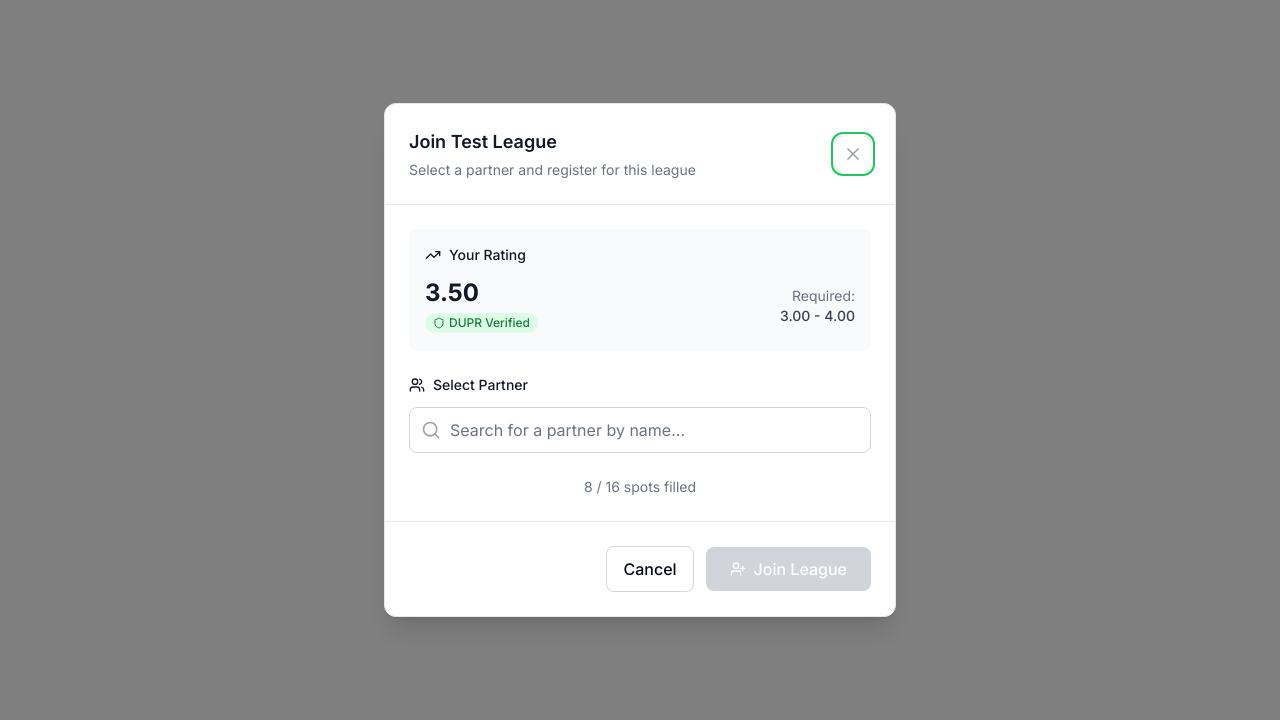
LeagueRegistrationModal › form submission › should show error message when registration fails
// Select partner
In the field with placeholder "Search for a partner by name...": [640, 430] box [409,407,871,453], type "jo"
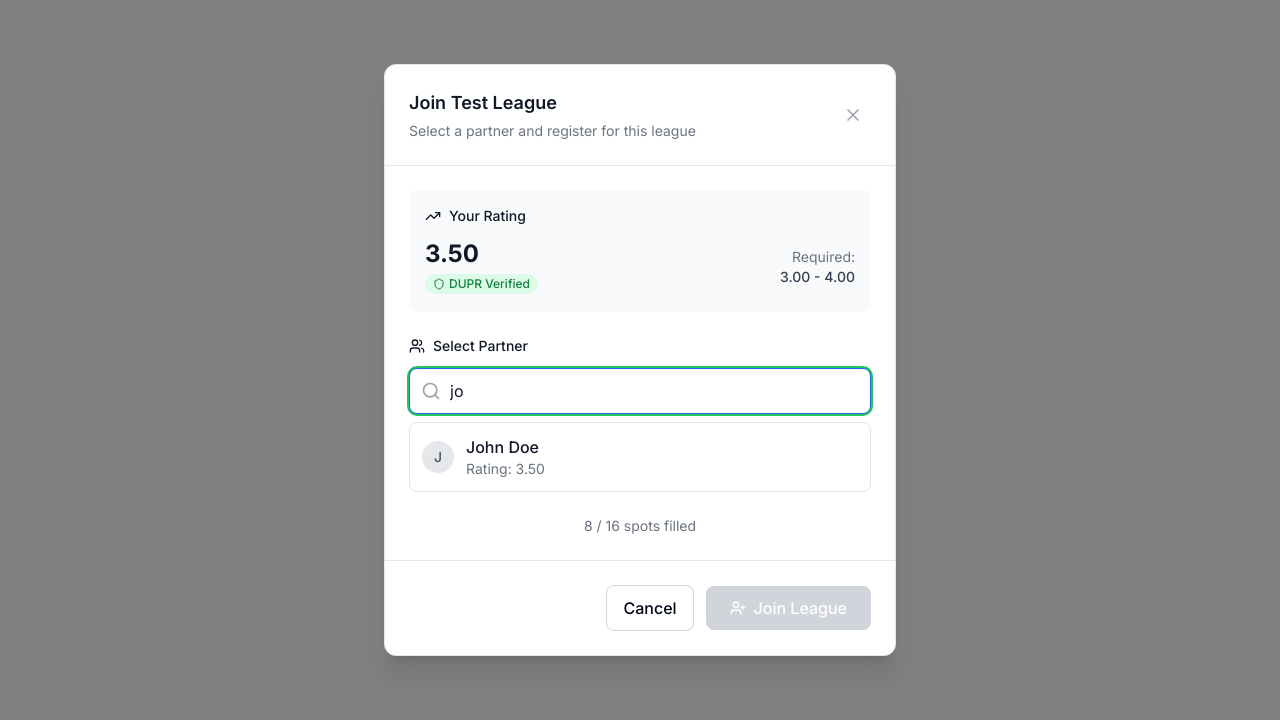
Now the text "John Doe" is shown
Click the text "John Doe": [502, 447] box [466,437,539,457]
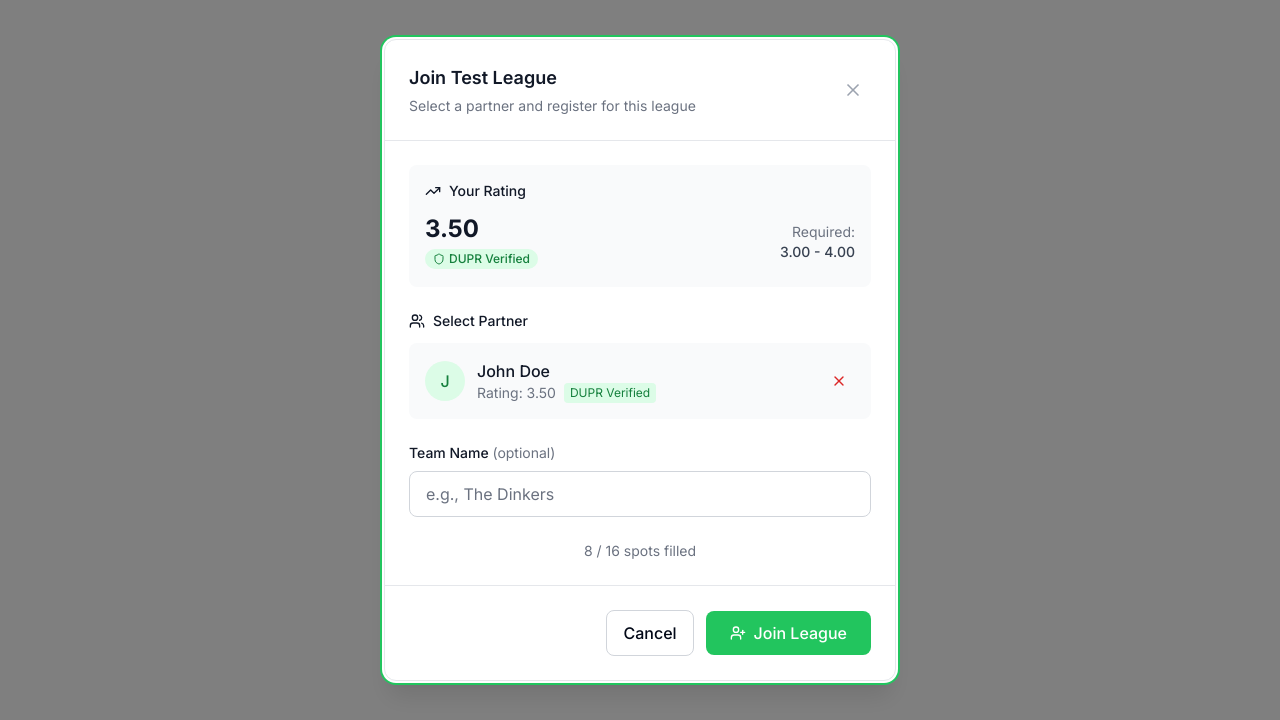
Click the button "Join League": [788, 633] box [706,611,871,655]
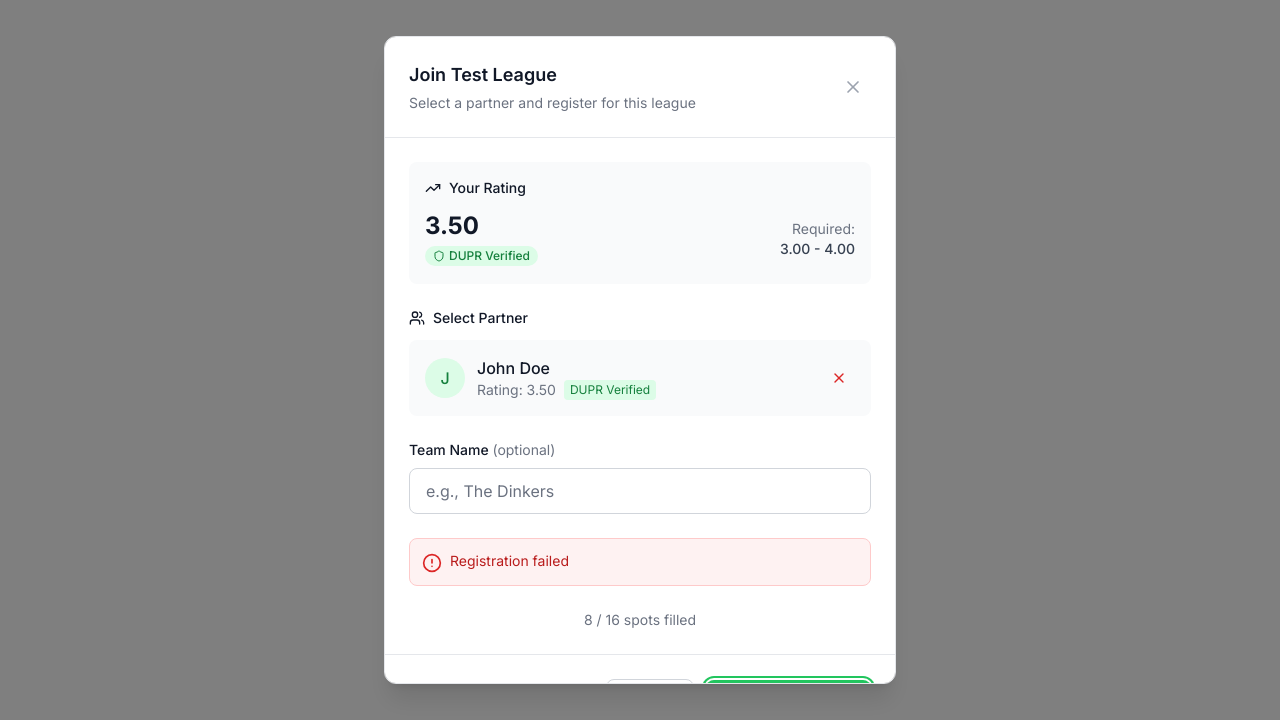
Now the text "Registration failed" is shown, box [450,551,569,571]
